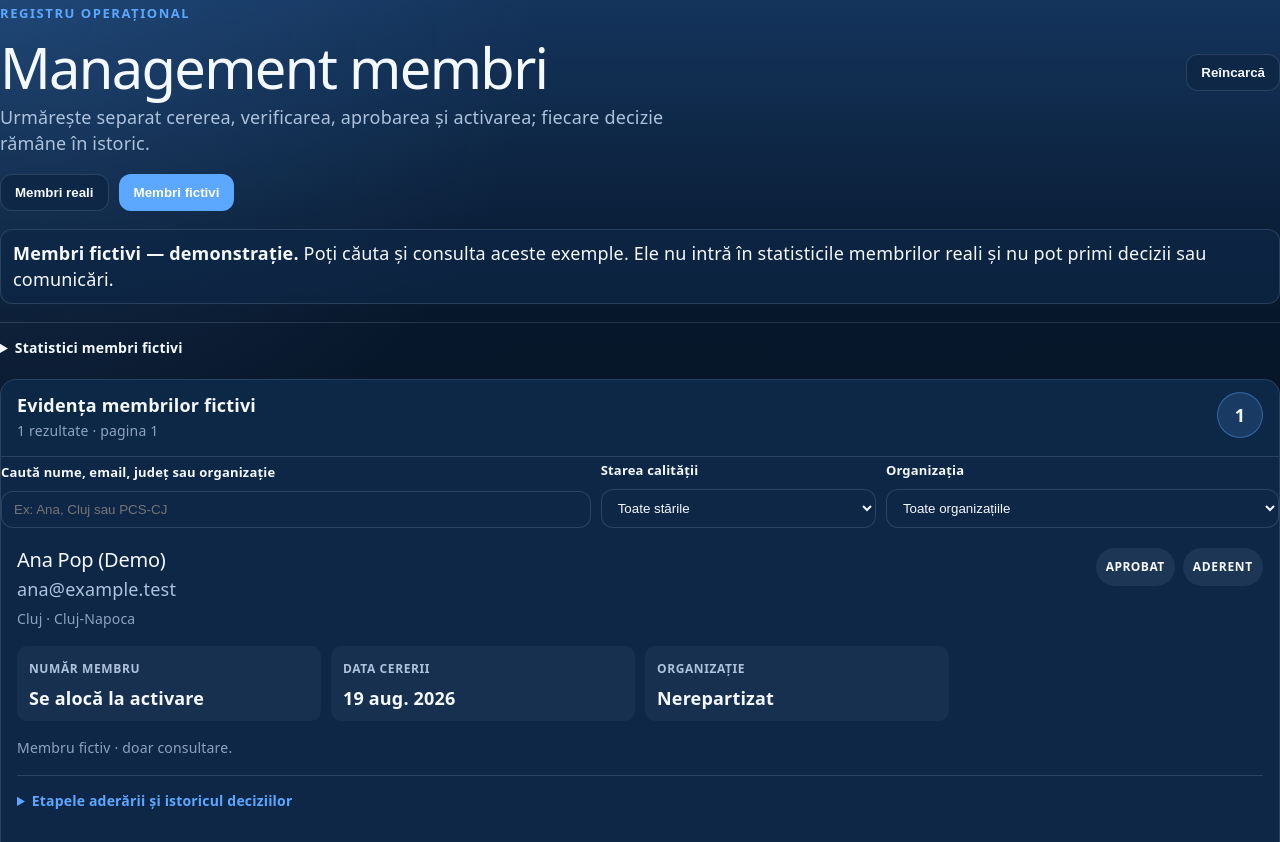
Test: AdminMembersDashboardPage › opens available fictional members automatically when the entire real registry is empty and respects switching back
Expected: the heading "Ana Pop (Demo)" is shown, [17,548,176,572]
Step 1. Click the button "Membri reali" → {"x": 54, "y": 193}, box [0,174,108,211]
(page scrolled)
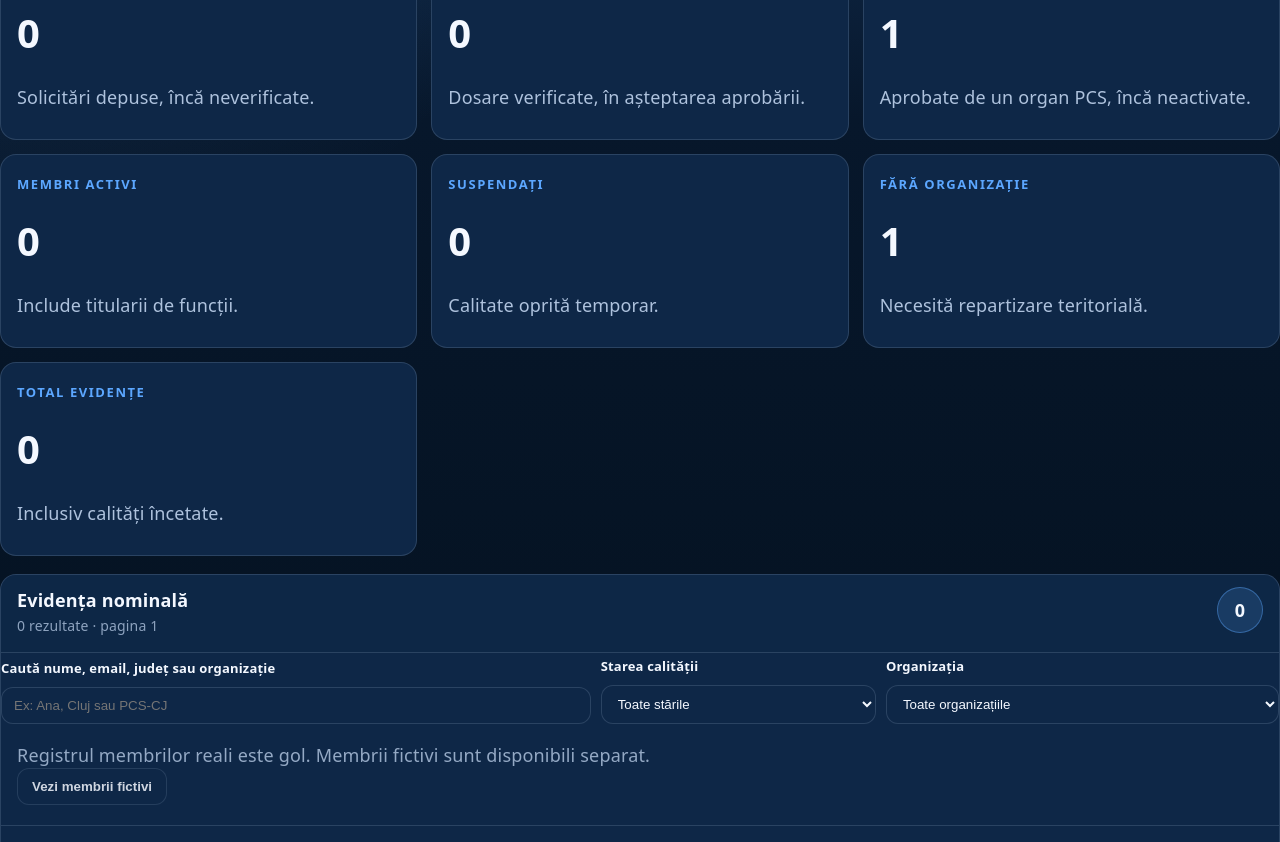
Expected: the button "Vezi membrii fictivi" is shown
Expected: the heading "Ana Pop (Demo)" is gone
Step 2. Click the button "Vezi membrii fictivi" → {"x": 92, "y": 786}, box [17,768,167,805]
(page scrolled)
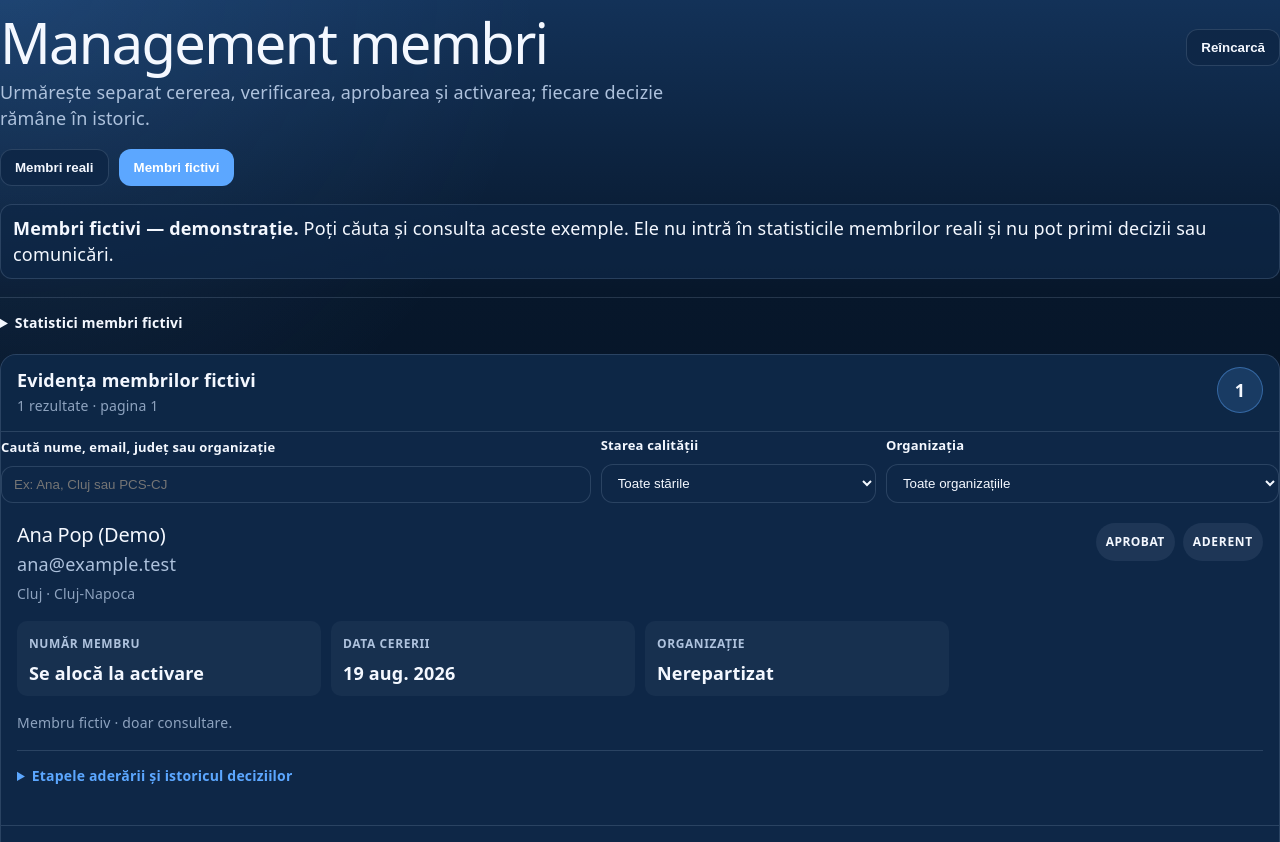
Expected: the heading "Ana Pop (Demo)" is shown, [17,523,176,546]
